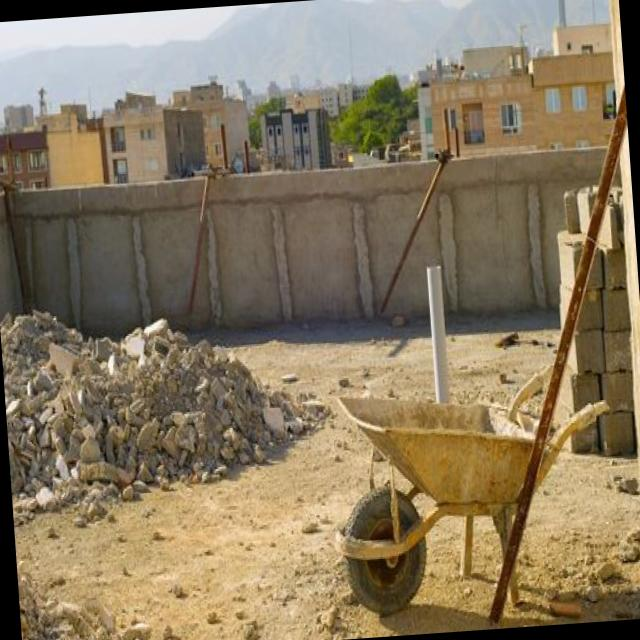rocks: (0, 312, 306, 522)
white-sand: (14, 407, 500, 640), (497, 448, 640, 628), (228, 328, 432, 402), (447, 316, 558, 402)
